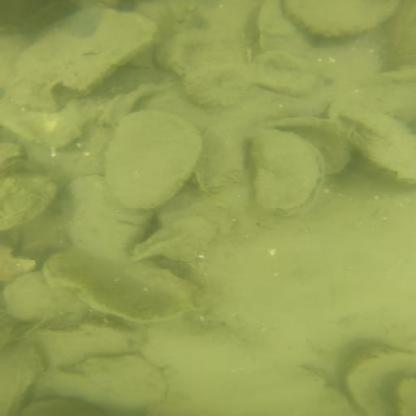3: (129, 256, 205, 299)
Oyster- Indeterminate: (10, 10, 157, 109)
Oyster-Closed: (105, 109, 200, 208), (59, 176, 144, 261), (38, 356, 167, 411), (333, 112, 412, 184), (252, 129, 318, 214), (156, 27, 247, 74), (281, 0, 398, 36), (38, 325, 140, 366), (1, 273, 85, 321), (0, 172, 56, 230), (184, 62, 251, 107), (250, 52, 315, 94), (5, 343, 40, 413), (259, 3, 307, 51), (21, 397, 105, 415)
